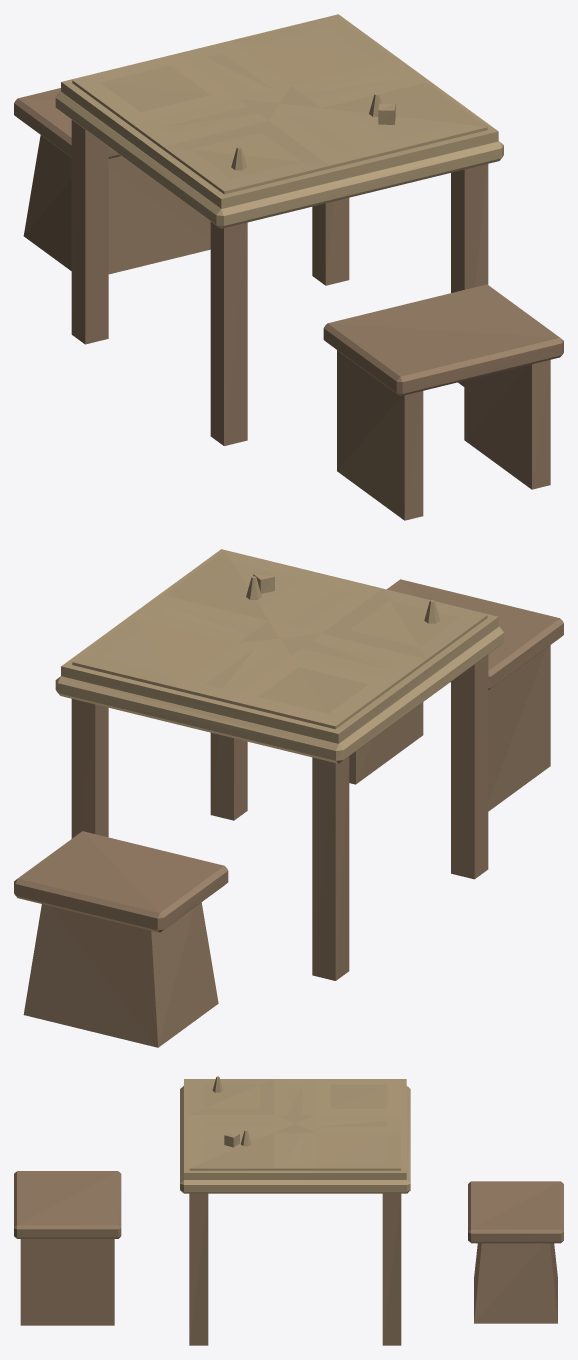
The model's file is ludo-table-00.glb.
The picture shows the model from 3 angles, top to bottom: view 1: azimuth 30°, elevation 25°; view 2: azimuth 150°, elevation 25°; view 3: azimuth 270°, elevation 25°; orthographic projection. The views are drawn at different scales.
Parts seen in each view (by area): view 1: ludo_table_00; view 2: ludo_table_00; view 3: ludo_table_00.
Boxes of the visible parts, x1,y1,x2,y2 form: ludo_table_00: (14,14,563,520); ludo_table_00: (14,549,563,1047); ludo_table_00: (14,1076,563,1345).
Size of the model in its own units: 0.6119 by 0.5588 by 1.46.
